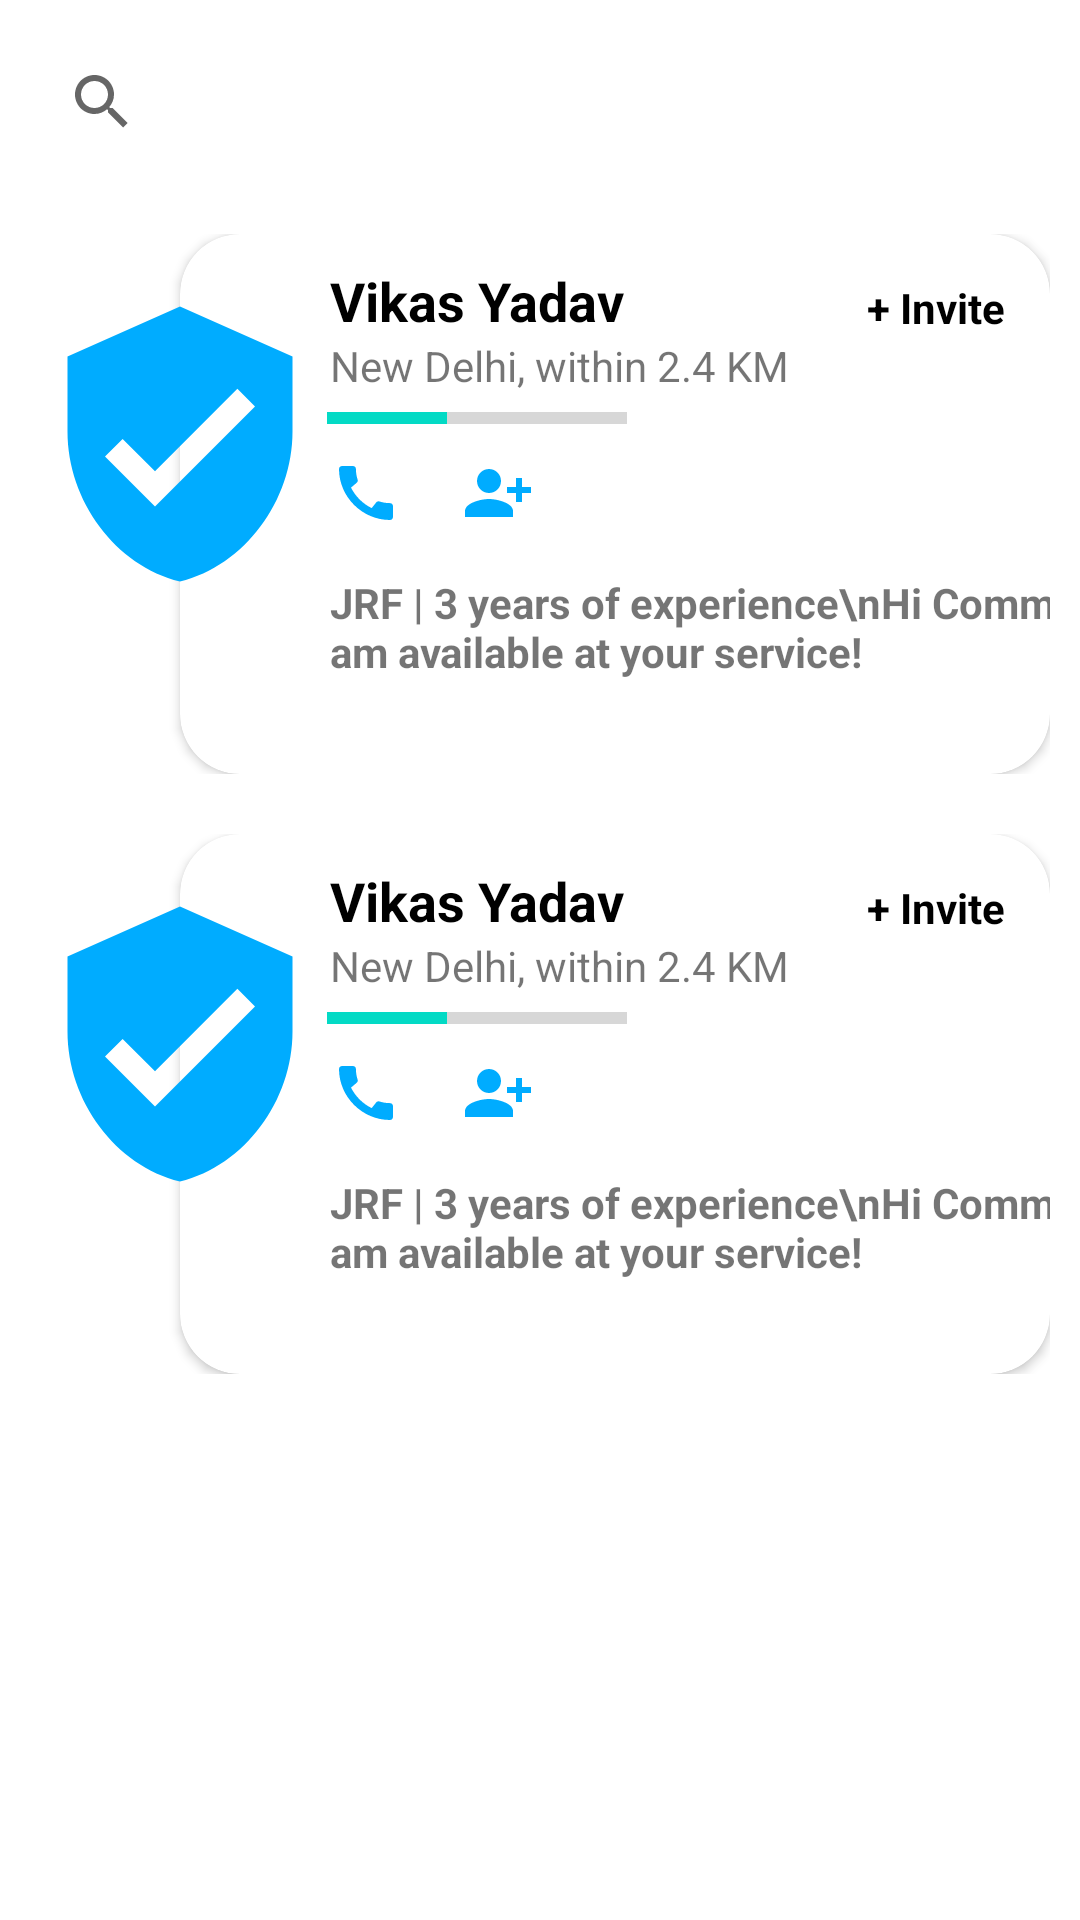

Icons on this 1080px×1920px Android screen, each with the point to tap as point (x, y):
call: point (366, 493), point (366, 1093)
person add: point (498, 493), point (498, 1093)
verified user: point (180, 444), point (180, 1044)
